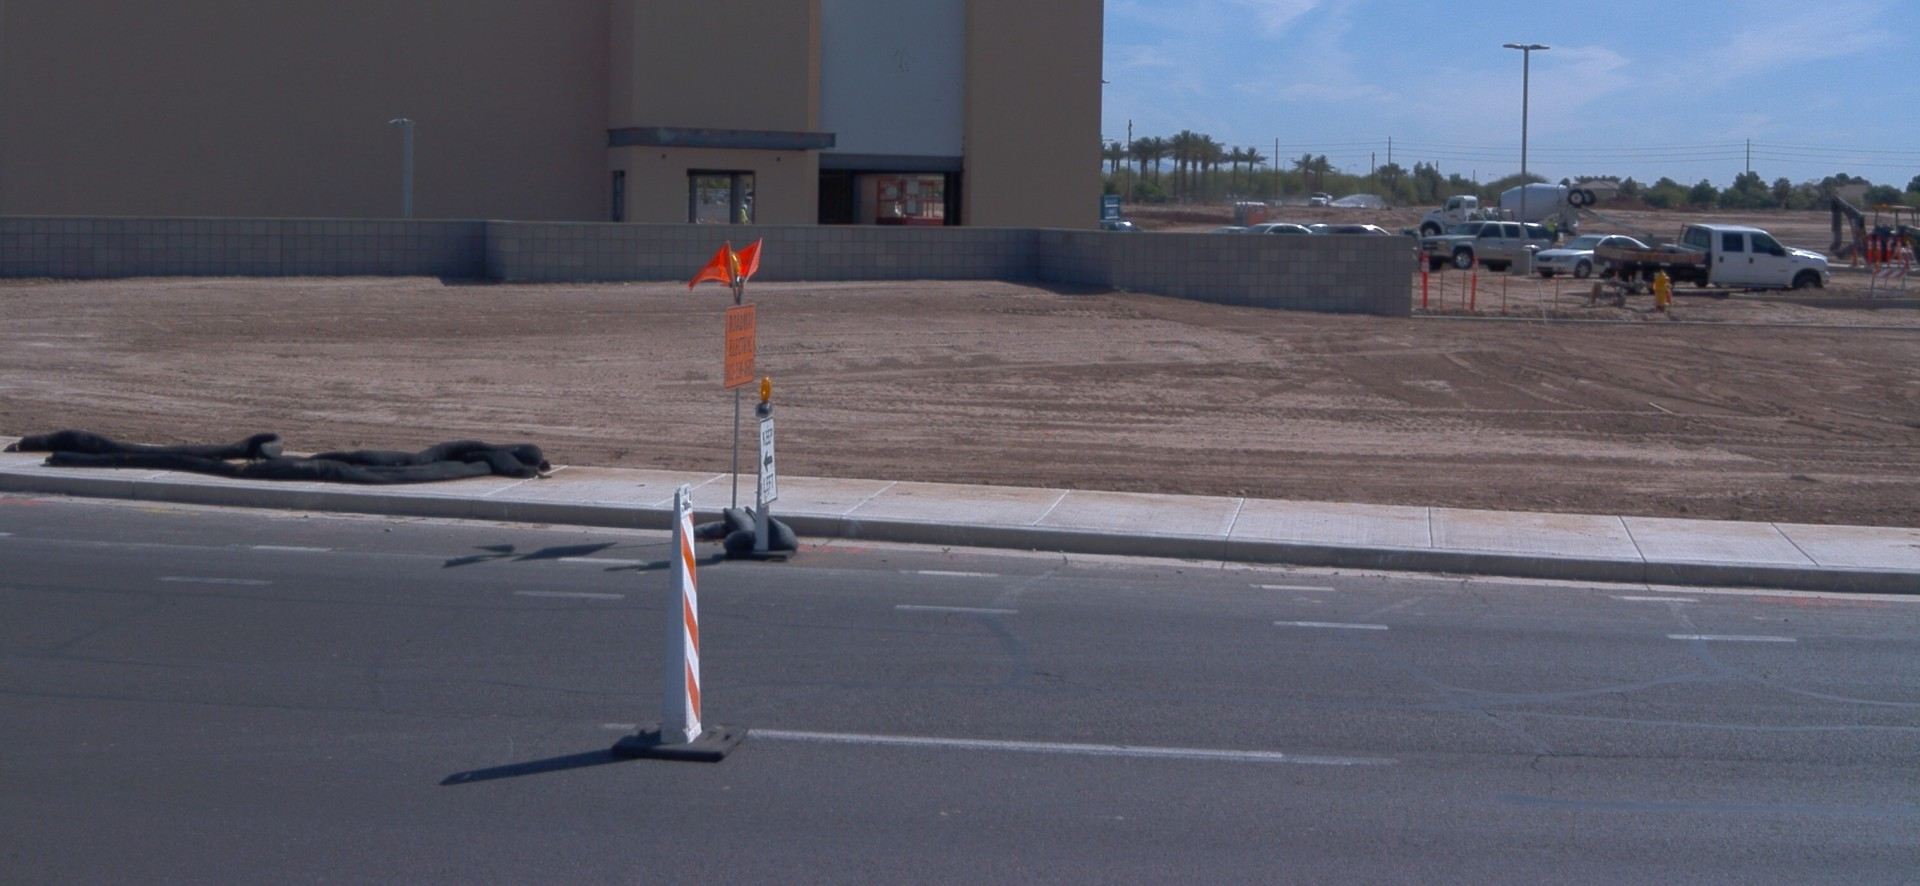TYPE_PEDESTRIAN: (1541, 213, 1556, 243)
TYPE_VEHICLE: (1590, 223, 1828, 296), (1424, 178, 1617, 235), (1827, 192, 1920, 274), (1415, 220, 1551, 271), (1531, 234, 1650, 280), (1241, 221, 1317, 235), (1311, 227, 1385, 239), (1464, 207, 1512, 223), (1095, 220, 1143, 234), (1309, 188, 1332, 206), (1364, 227, 1388, 239), (1217, 229, 1251, 234)
